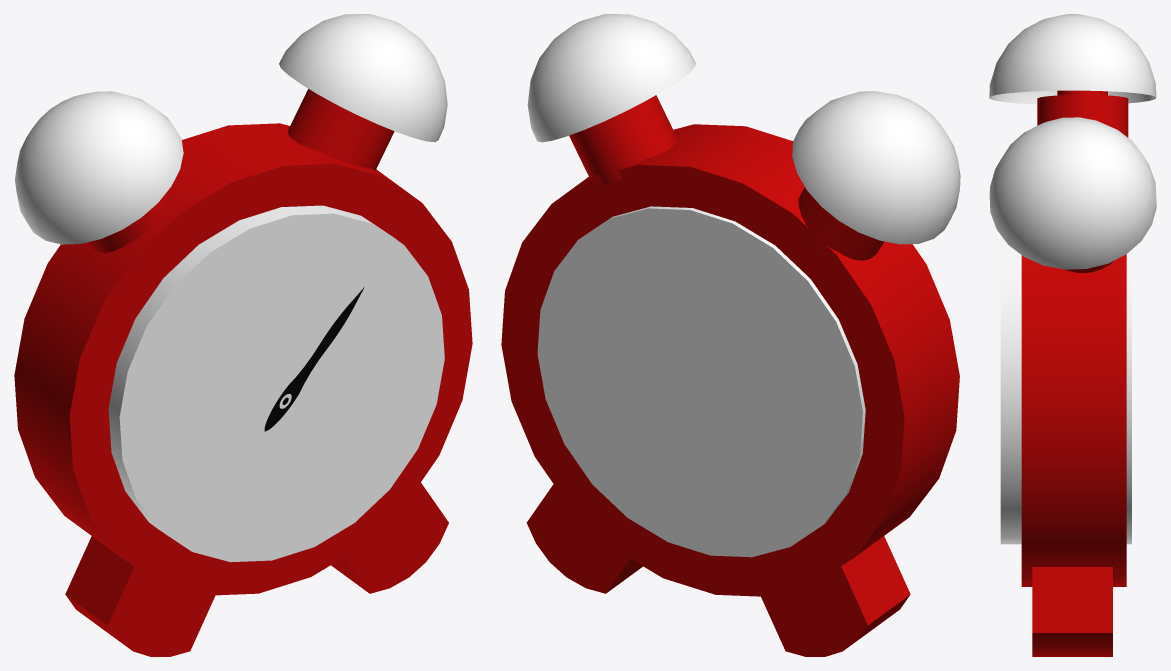
The model's file is clock red.dae.
The picture shows the model from 3 angles, left to right: view 1: azimuth 30°, elevation 25°; view 2: azimuth 150°, elevation 25°; view 3: azimuth 270°, elevation 25°; orthographic projection. The views are drawn at different scales.
Parts seen in each view (by area): view 1: Group8, Group9, Group3, Group4, Group10, Group11, Group6, Group14, Group5; view 2: Group8, Group9, Group3, Group4, Group10, Group11, Group6, Group5; view 3: Group9, Group4, Group3, Group8, Group11, Group5.
Part boxes in pixels (x1,y1,x2,y2): Group8: (108, 205, 444, 562); Group9: (14, 123, 472, 595); Group3: (15, 91, 183, 244); Group4: (279, 14, 447, 142); Group10: (65, 536, 215, 656); Group11: (331, 482, 448, 593); Group6: (288, 89, 394, 170); Group14: (264, 287, 364, 431); Group5: (87, 193, 166, 253); Group8: (537, 206, 865, 557); Group9: (501, 124, 959, 596); Group3: (792, 91, 960, 244); Group4: (527, 14, 695, 142); Group10: (761, 536, 910, 656); Group11: (526, 484, 642, 593); Group6: (569, 95, 676, 184); Group5: (798, 187, 884, 260); Group9: (1021, 254, 1126, 586); Group4: (989, 117, 1156, 269); Group3: (989, 14, 1156, 104); Group8: (1000, 235, 1131, 544); Group11: (1032, 567, 1112, 656); Group5: (1037, 90, 1128, 137).
Size of the model in its own units: 21.82 by 7.98 by 28.3.
